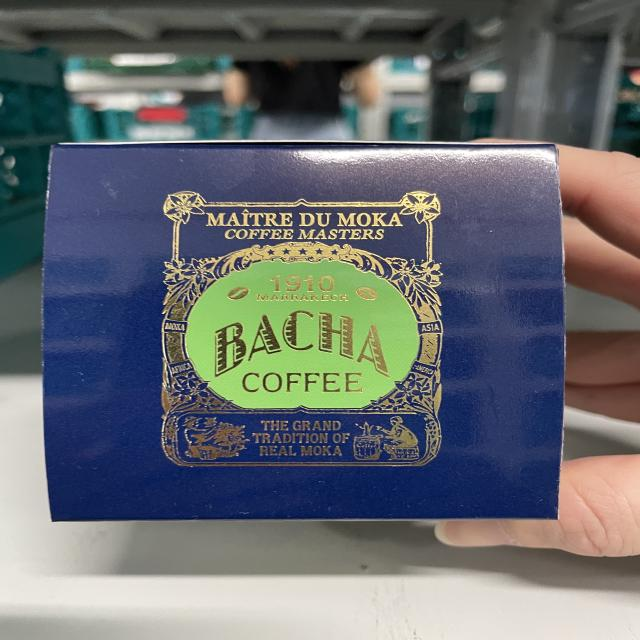object_name: (48, 145, 563, 518)
